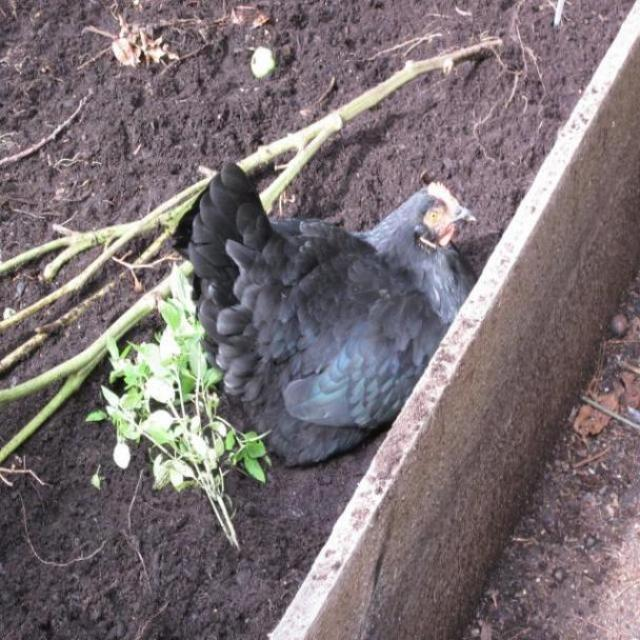Chicken: (171, 166, 481, 445)
